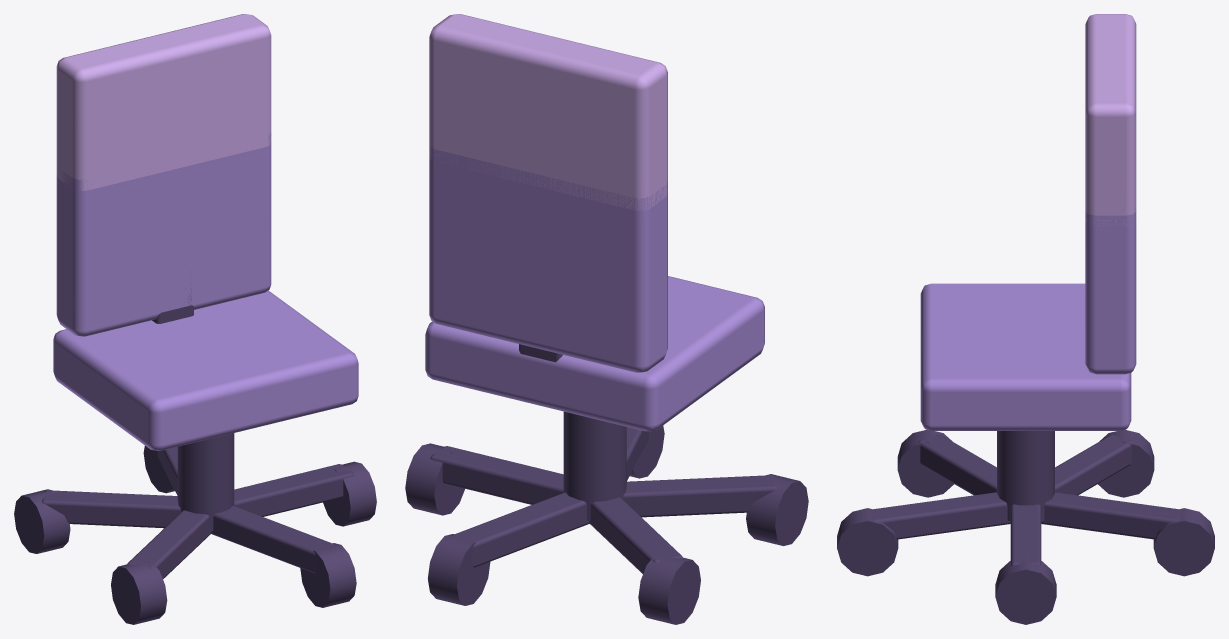
File: office-chair.glb
3 renders of one model, left to right at view 1: azimuth 30°, elevation 25°; view 2: azimuth 150°, elevation 25°; view 3: azimuth 270°, elevation 25°, orthographic. The views are drawn at different scales.
Parts seen in each view (by area): view 1: seat, back-lower, back-upper, lift, base-arm-3, base-arm-1, base-arm-0, caster-2, base-arm-2, caster-3, caster-1, caster-0 (+2 smaller); view 2: back-lower, back-upper, seat, lift, base-arm-2, base-arm-4, base-arm-0, caster-3, base-arm-3, caster-2, caster-4, caster-0 (+2 smaller); view 3: seat, back-upper, back-lower, lift, base-arm-1, base-arm-4, caster-0, caster-1, caster-4, base-arm-2, base-arm-3, caster-2 (+2 smaller).
Part boxes in pixels (box(x1,y1,x2,y2)): seat: box(53, 290, 358, 450); back-lower: box(56, 133, 271, 336); back-upper: box(56, 14, 271, 190); lift: box(177, 433, 234, 531); base-arm-3: box(42, 490, 181, 528); base-arm-1: box(211, 506, 334, 573); base-arm-0: box(234, 464, 354, 516); caster-2: box(111, 561, 167, 624); base-arm-2: box(127, 510, 211, 578); caster-3: box(14, 489, 70, 553); caster-1: box(300, 543, 356, 607); caster-0: box(323, 461, 376, 526); back-lower: box(429, 147, 667, 372); back-upper: box(429, 14, 667, 210); seat: box(425, 276, 764, 431); lift: box(563, 411, 626, 520); base-arm-2: box(623, 475, 777, 517); base-arm-4: box(452, 492, 589, 567); base-arm-0: box(430, 446, 563, 504); caster-3: box(638, 554, 700, 624); base-arm-3: box(589, 497, 682, 573); caster-2: box(746, 474, 808, 545); caster-4: box(427, 534, 490, 605); caster-0: box(405, 443, 464, 515); seat: box(920, 283, 1131, 430); back-upper: box(1085, 14, 1136, 226); back-lower: box(1085, 211, 1136, 374); lift: box(997, 431, 1054, 521); base-arm-1: box(871, 492, 1010, 539); base-arm-4: box(1041, 492, 1180, 539); caster-0: box(995, 556, 1056, 624); caster-1: box(837, 508, 898, 576); caster-4: box(1153, 508, 1214, 576); base-arm-2: box(918, 435, 996, 495); base-arm-3: box(1055, 435, 1133, 495); caster-2: box(897, 429, 953, 497).
Bounding box in the file's own units: 0.9764 × 1.59 × 1.11.
